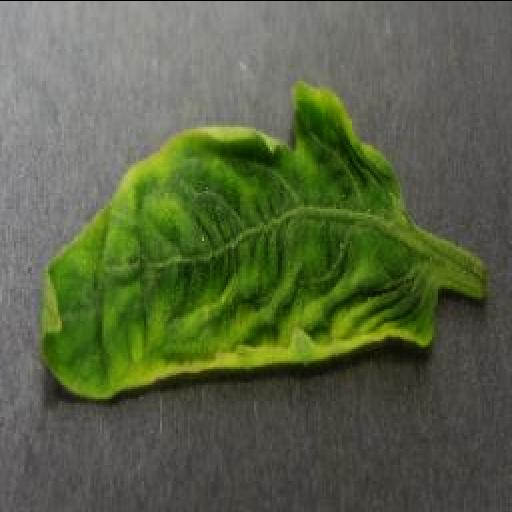disease_tomato: (32, 80, 438, 398)
